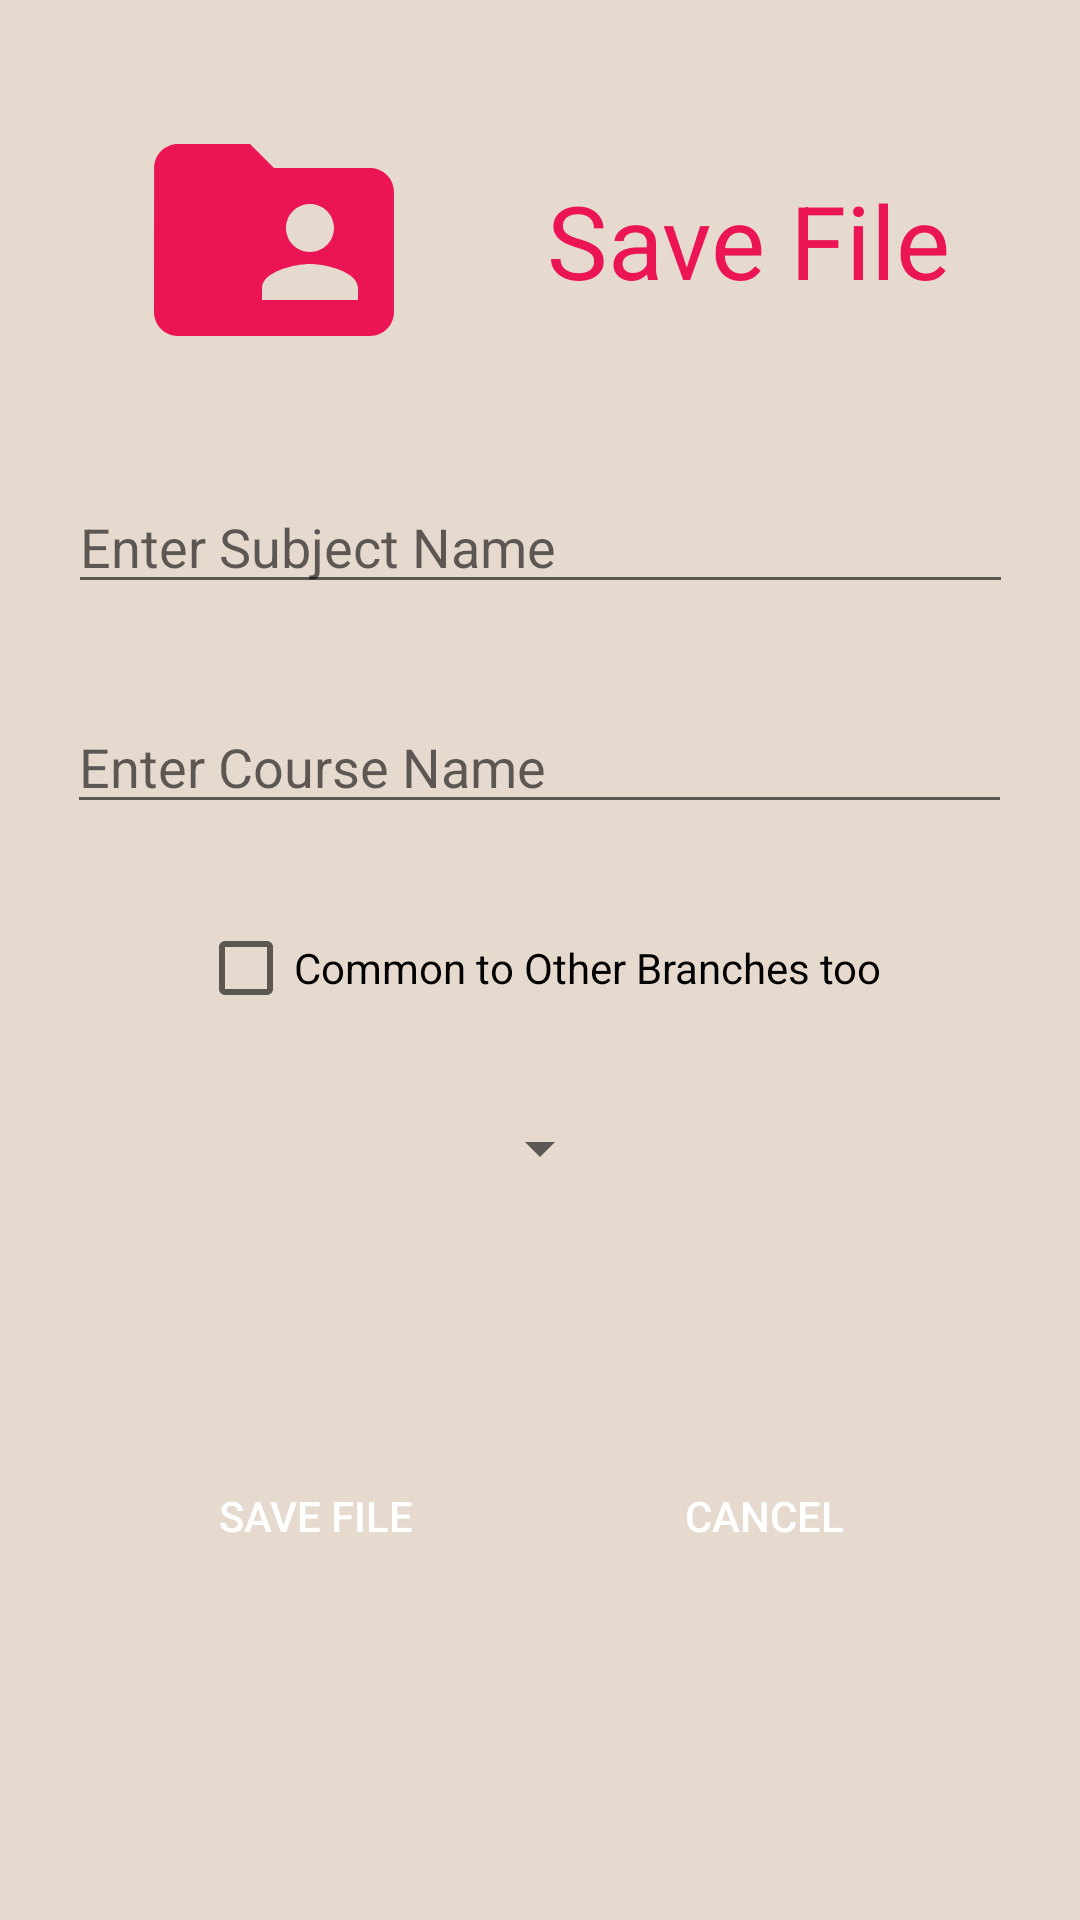

Where to tap for icons on this 1080x1920 app screen, as point (x, y):
folder shared: point (274, 240)
